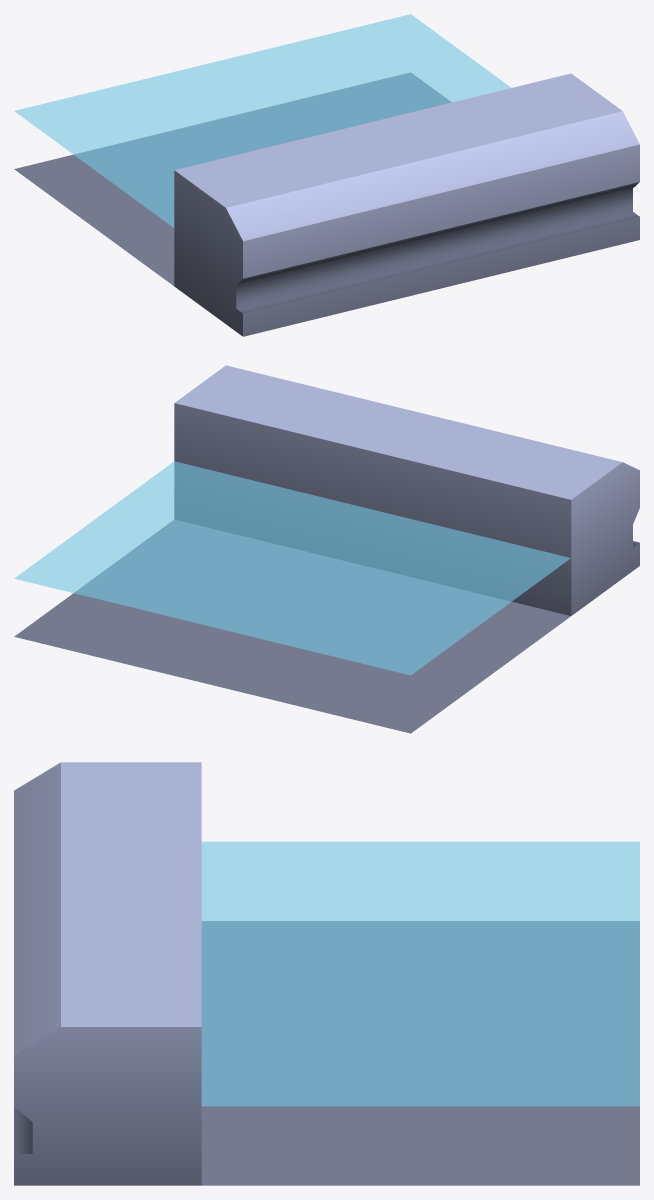
File: fountain-edge.glb
The picture shows the model from 3 angles, top to bottom: view 1: azimuth 30°, elevation 25°; view 2: azimuth 150°, elevation 25°; view 3: azimuth 270°, elevation 25°; orthographic projection. The views are drawn at different scales.
Parts seen in each view (by area): view 1: fountain-edge, (%ignore); view 2: fountain-edge, (%ignore); view 3: fountain-edge, (%ignore).
Boxes of the visible parts, bbox=[...] form: fountain-edge: bbox=[14, 72, 639, 336]; (%ignore): bbox=[14, 14, 510, 227]; fountain-edge: bbox=[14, 365, 639, 733]; (%ignore): bbox=[14, 461, 570, 675]; fountain-edge: bbox=[14, 762, 639, 1185]; (%ignore): bbox=[201, 841, 639, 1106].
Size of the model in its own units: 1 by 0.28 by 1.
2 materials, 1 textured.
